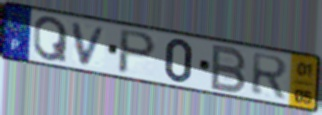0: (163, 37, 195, 84)
B: (208, 43, 249, 95)
P: (115, 27, 159, 76)
Q: (32, 15, 70, 65)
R: (250, 51, 291, 101)
V: (70, 21, 110, 68)
